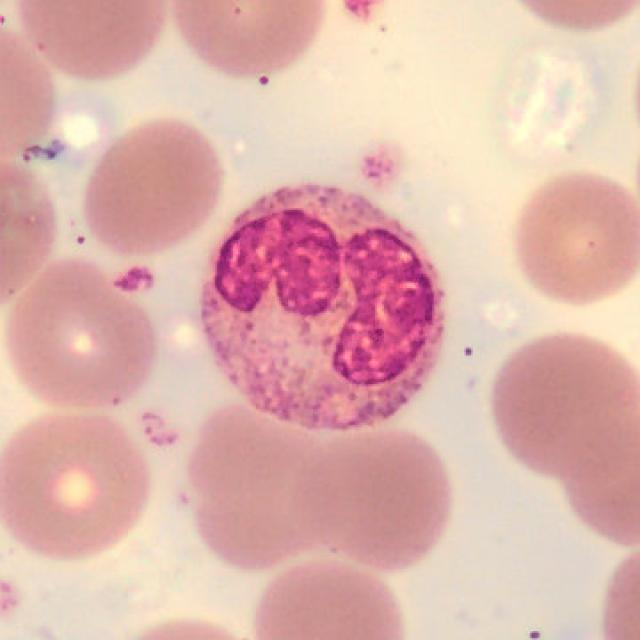Neutrofilo segmentado: (199, 185, 446, 430)
